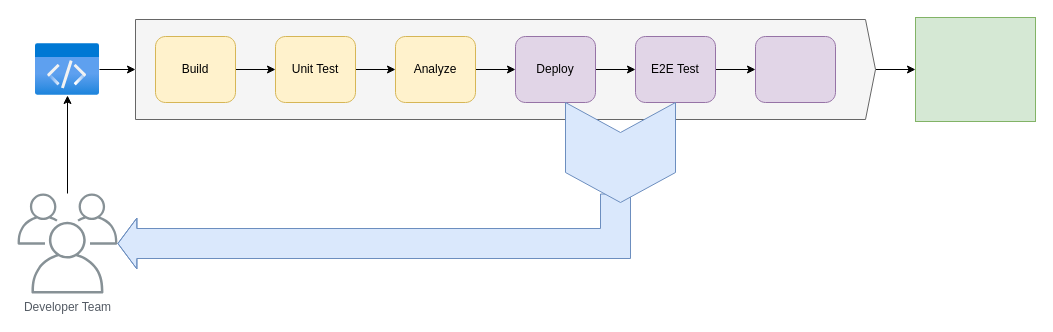
The diagram is 1053 pixels wide and 332 high, and some of its shapes have lost their labels. Each missing label, with the box of its shape:
Product: (914, 16, 1036, 122)
Publish: (754, 36, 836, 102)
Rollback: (564, 102, 676, 202)
